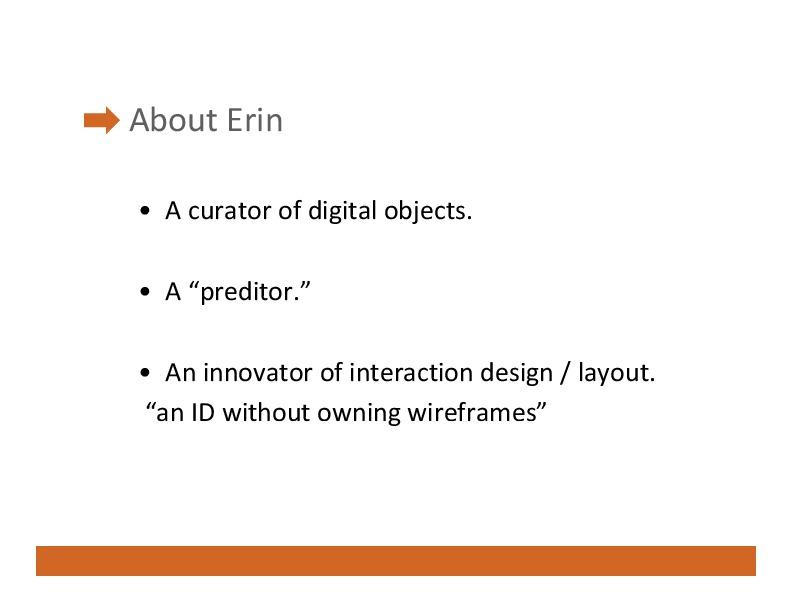paragraph: (133, 185, 700, 452)
title: (125, 84, 312, 144)
